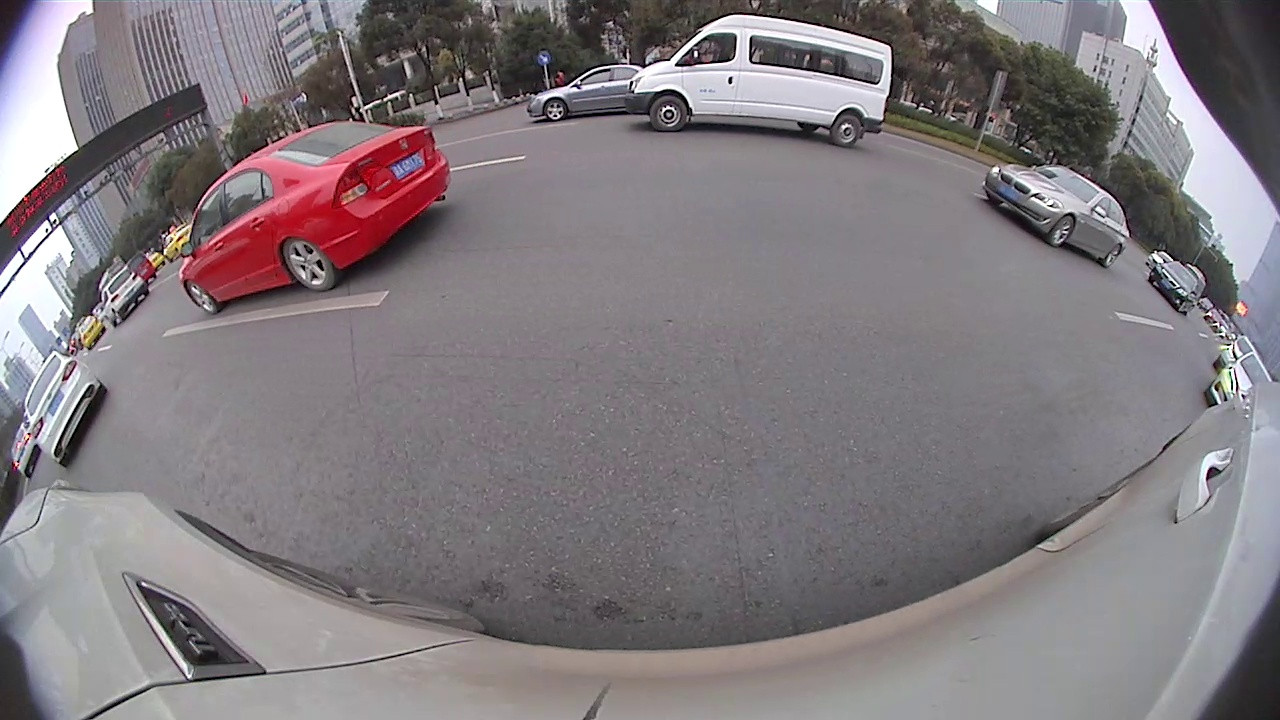car: (179, 121, 450, 313), (631, 16, 889, 144), (983, 168, 1127, 268), (20, 349, 107, 468), (528, 65, 655, 121), (1205, 352, 1269, 409), (98, 262, 148, 326), (1150, 263, 1200, 315)
front: (650, 93, 688, 132), (183, 277, 222, 314), (1049, 214, 1076, 247), (544, 96, 567, 120)
rear: (281, 235, 338, 292), (832, 112, 862, 146), (1104, 243, 1123, 266)
